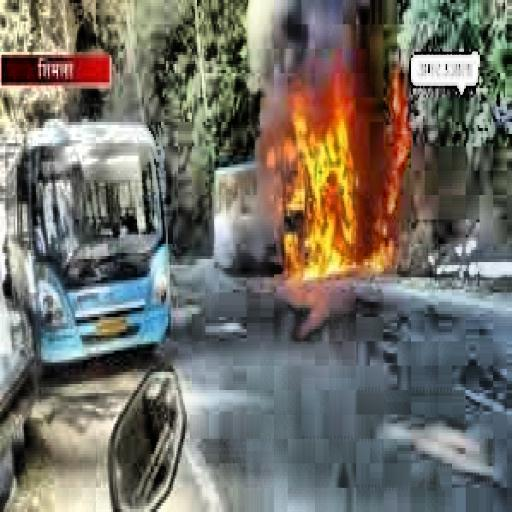fire: (258, 67, 408, 299)
